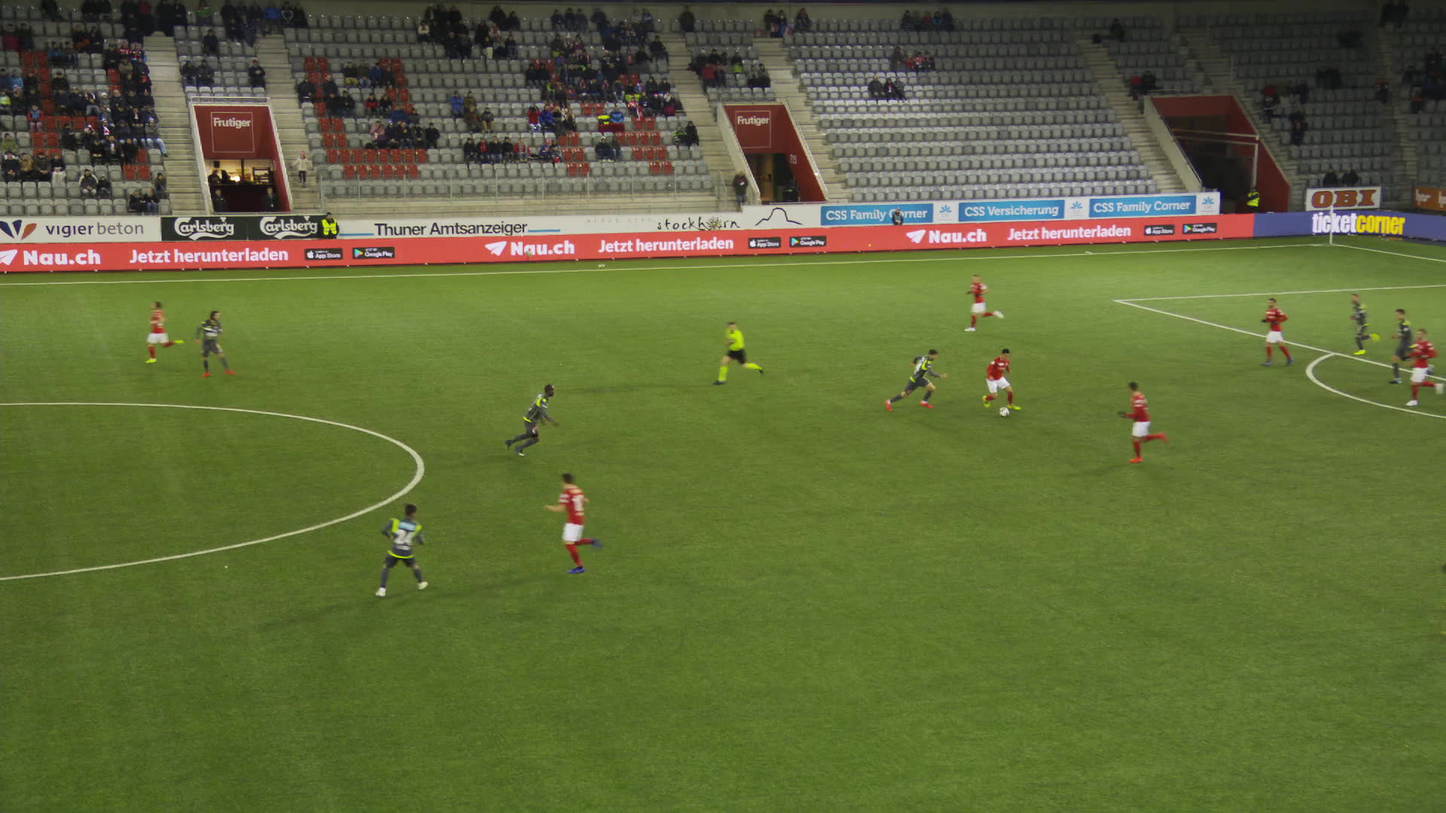ball: (998, 407, 1008, 416)
player: (543, 470, 610, 576), (370, 502, 426, 598), (1121, 376, 1176, 463), (1383, 306, 1435, 386), (501, 383, 556, 457), (134, 300, 187, 369), (889, 349, 947, 411), (1399, 327, 1436, 407), (194, 309, 233, 377), (1346, 291, 1385, 356), (959, 273, 1003, 330), (1257, 298, 1290, 367), (979, 346, 1011, 410), (1440, 559, 1444, 575)
referee: (716, 320, 759, 383)
